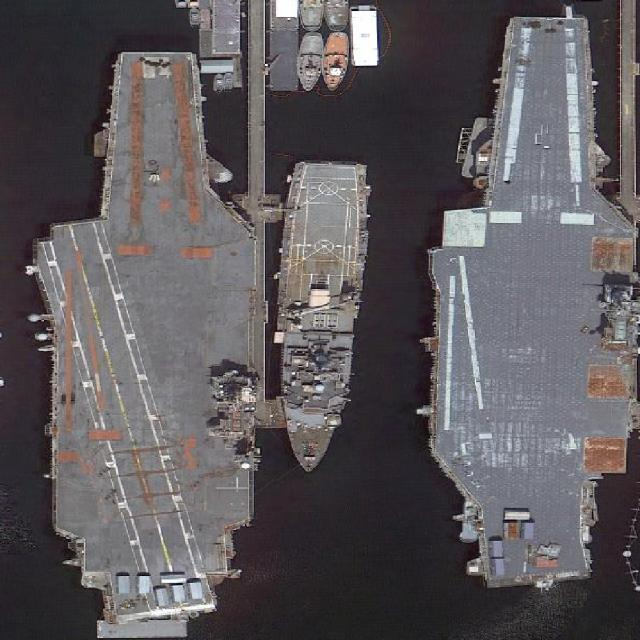Aircraft Carrier: (29, 50, 262, 619), (428, 16, 637, 580)
Dock: (250, 3, 264, 402)
Landing: (268, 157, 372, 475)
